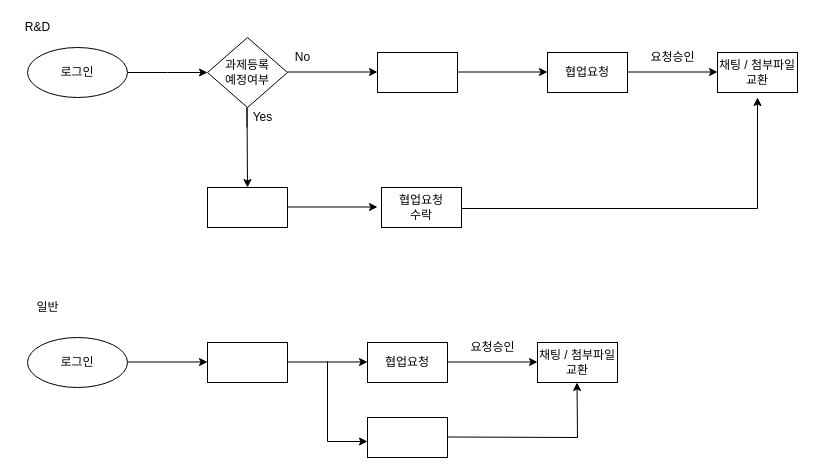
The diagram is 815 pixels wide and 475 high, and some of its shapes have lost their labels. The shapes that lost their labels are listed below. From the top down, each one's centre as x and y in pixels, then its label:
the point at 417,72: 과제탐색
the point at 247,207: 과제등록
the point at 247,362: 기업등록
the point at 407,437: 협업수락
